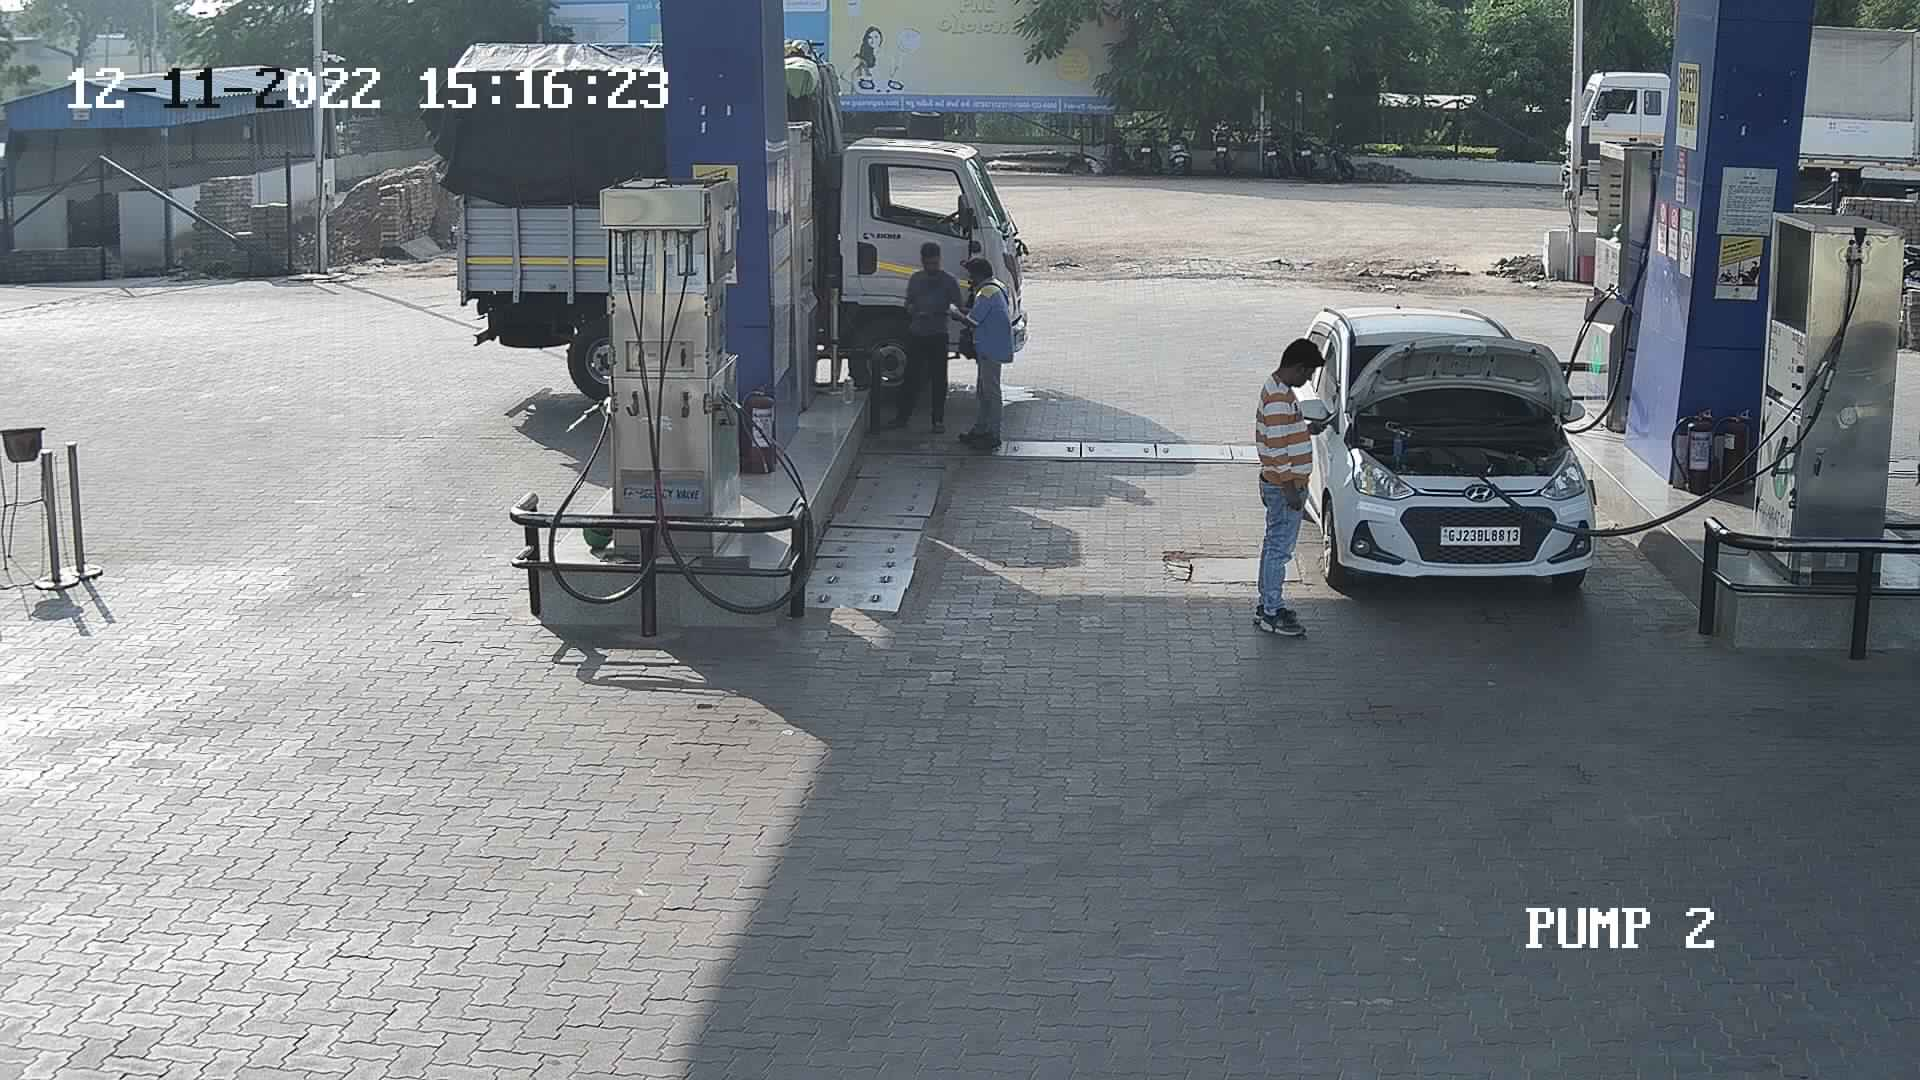Bike: (1309, 111, 1360, 186), (1159, 95, 1207, 173), (1251, 105, 1298, 181), (1199, 116, 1251, 181), (1131, 104, 1175, 179), (1284, 113, 1321, 186)
Car: (1265, 297, 1609, 603)
HMV: (777, 18, 1050, 410), (1544, 57, 1676, 222)
Others: (938, 247, 1025, 455)
